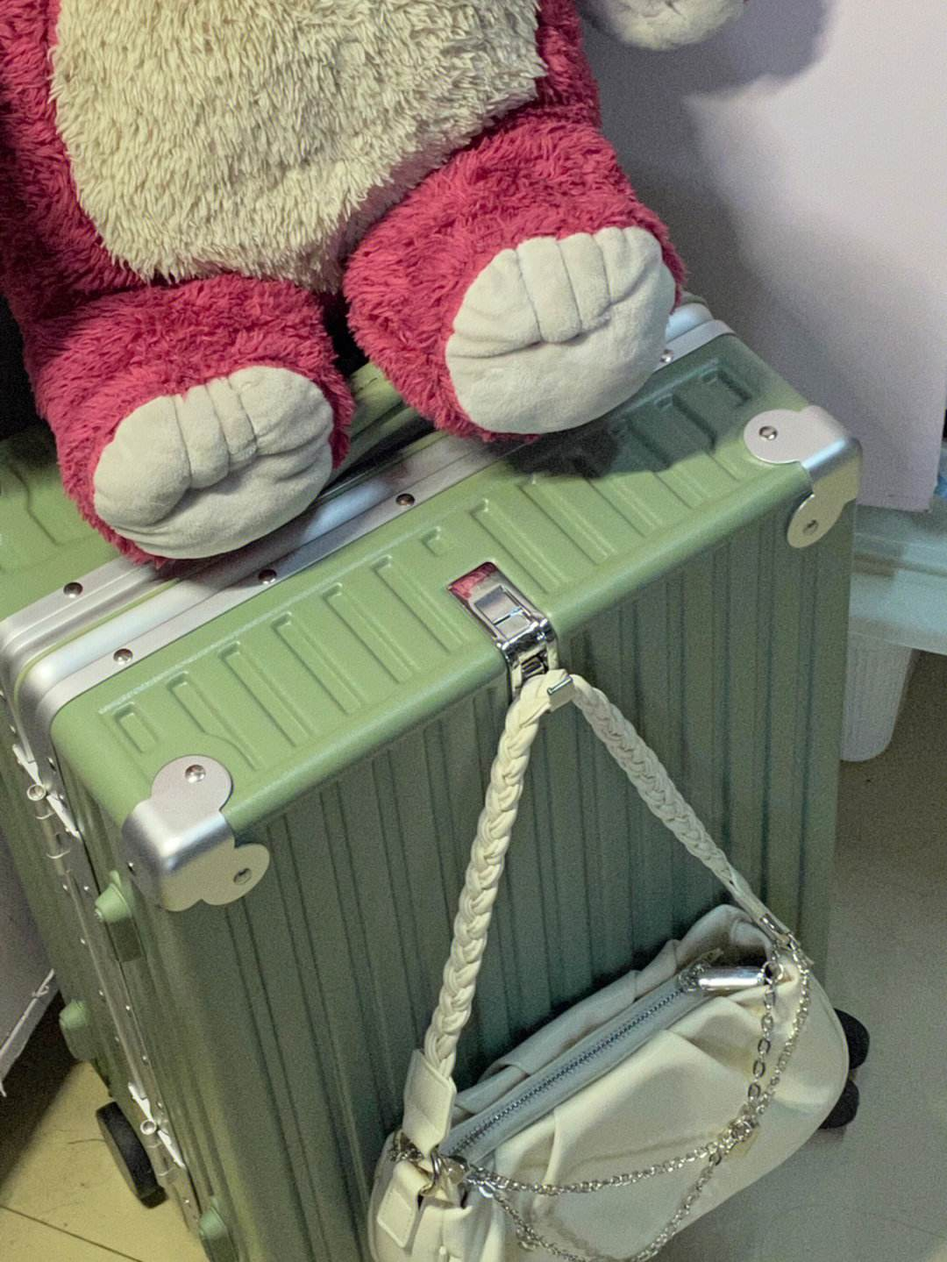box: (3, 285, 864, 1262)
